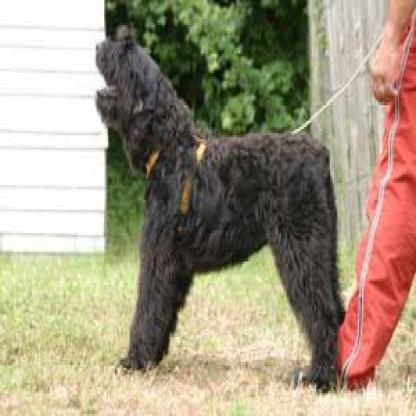Bouvier_des_Flandres: (91, 29, 346, 395)
